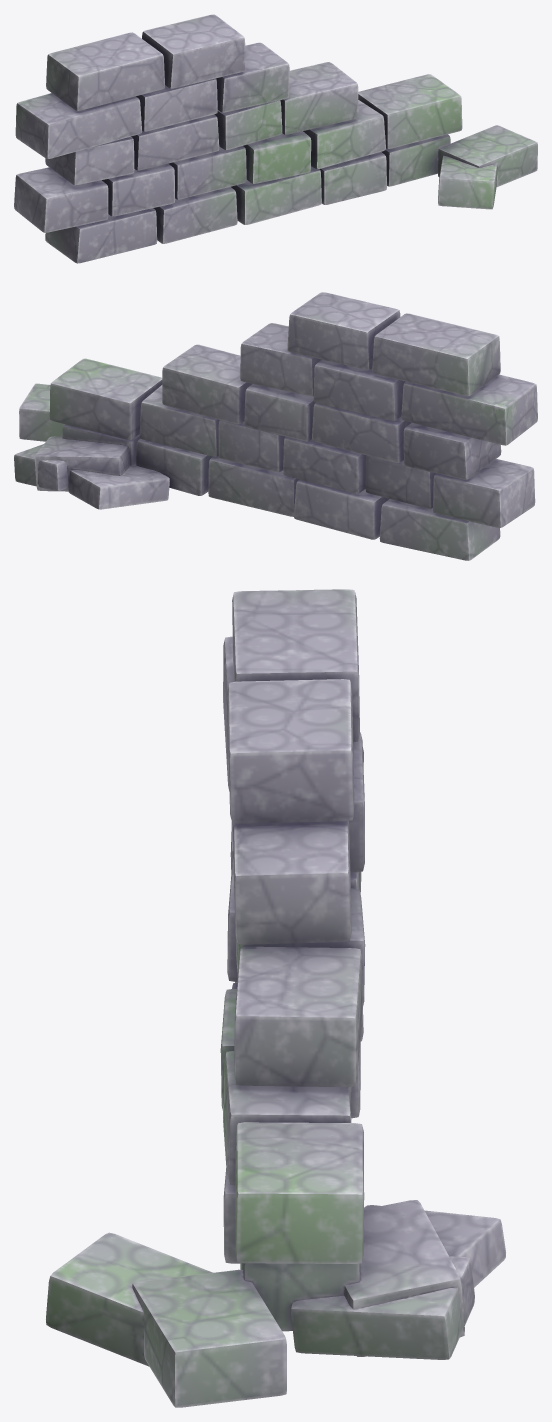
File: MurRuine.fbx
3 views of the same model, one above another, from view 1: azimuth 30°, elevation 25°; view 2: azimuth 150°, elevation 25°; view 3: azimuth 270°, elevation 25° (orthographic). The views are drawn at different scales.
Parts seen in each view (by area): view 1: MurRuine; view 2: MurRuine; view 3: MurRuine.
Boxes of the visible parts, x1,y1,x2,y2 form: MurRuine: (14,14,537,263); MurRuine: (14,292,537,560); MurRuine: (46,589,505,1407).
Bounding box in the file's own units: 1966 × 778 × 817.
1 material, 1 textured.
